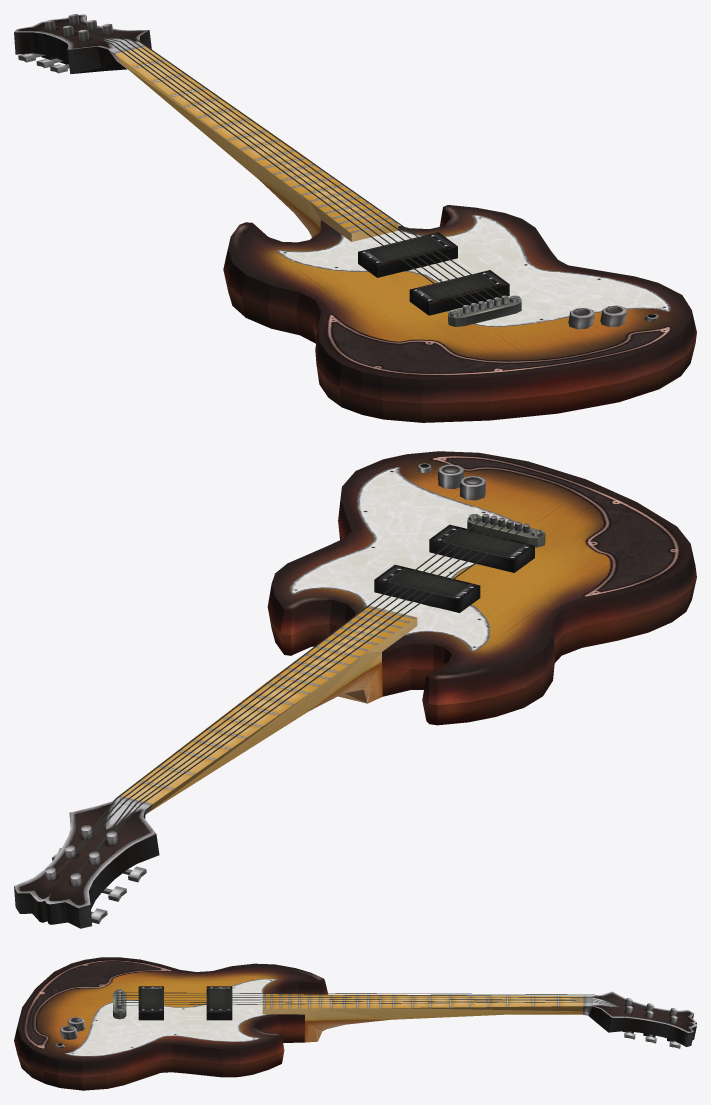
The model's file is Weapon_5pb2.obj.
3 views of the same model, one above another, from view 1: azimuth 30°, elevation 25°; view 2: azimuth 150°, elevation 25°; view 3: azimuth 270°, elevation 25° (orthographic). The views are drawn at different scales.
Parts seen in each view (by area): view 1: Weapon_5pb_2; view 2: Weapon_5pb_2; view 3: Weapon_5pb_2.
Boxes of the visible parts, x1,y1,x2,y2 form: Weapon_5pb_2: [14, 14, 696, 422]; Weapon_5pb_2: [14, 451, 696, 928]; Weapon_5pb_2: [14, 957, 696, 1090].
Size of the model in its own units: 13.7 by 2.42 by 36.86.
1 material, 1 textured.
